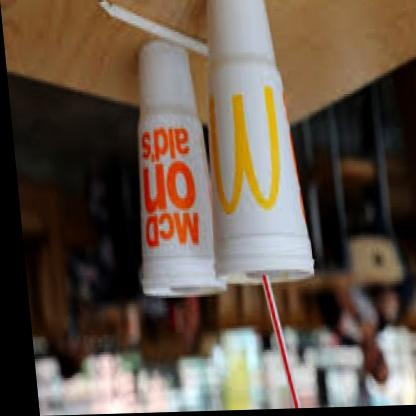trash: (208, 0, 313, 282), (139, 41, 225, 296)
